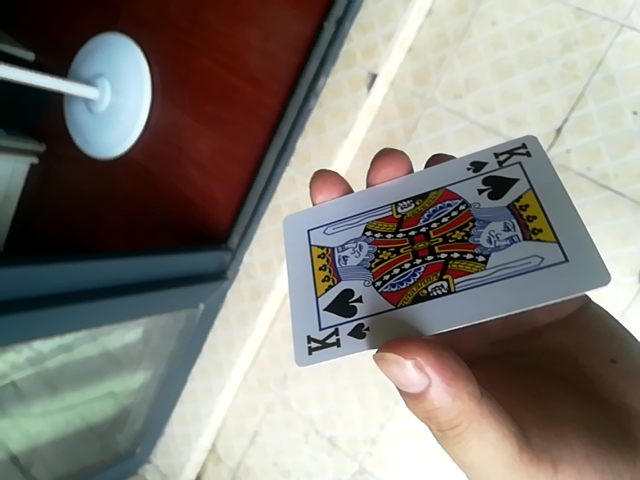ht k: (278, 133, 615, 373)
